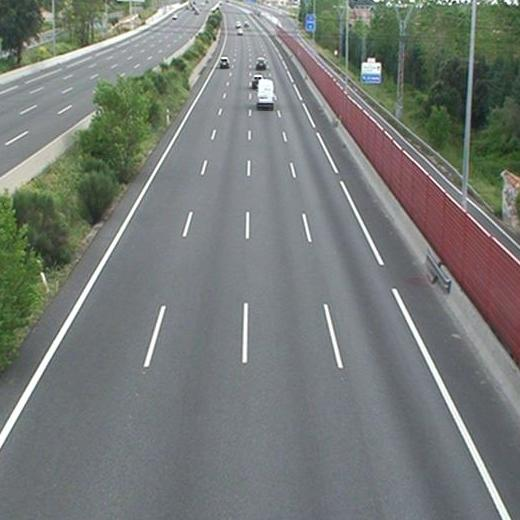car: (255, 57, 267, 69), (219, 56, 229, 68)
van: (257, 79, 274, 107)
